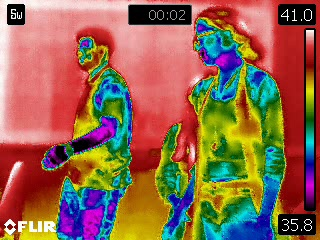human: (181, 9, 283, 240), (43, 26, 133, 240)
